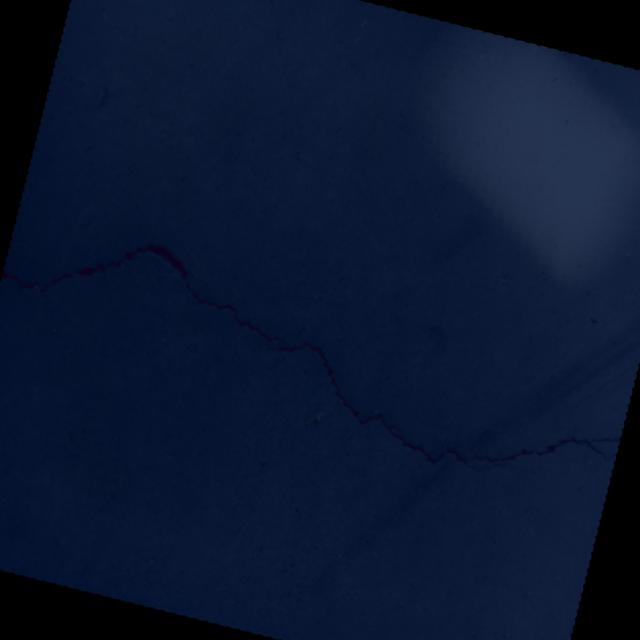crack: (0, 210, 639, 507)
